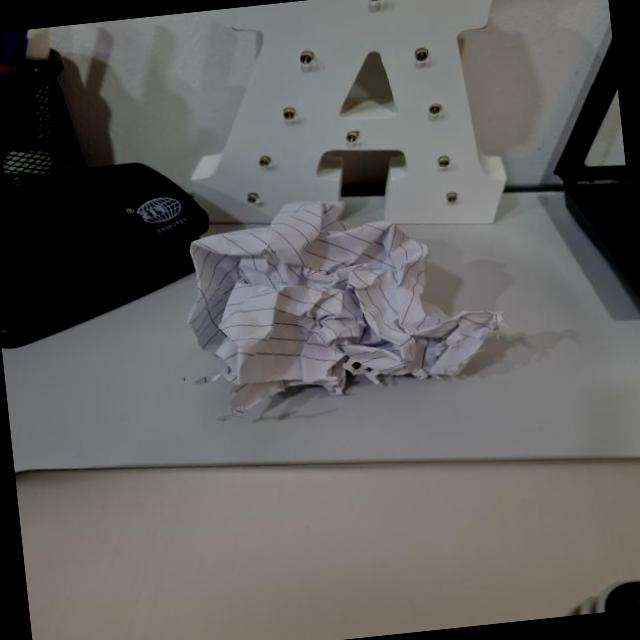trash: (182, 182, 483, 410)
